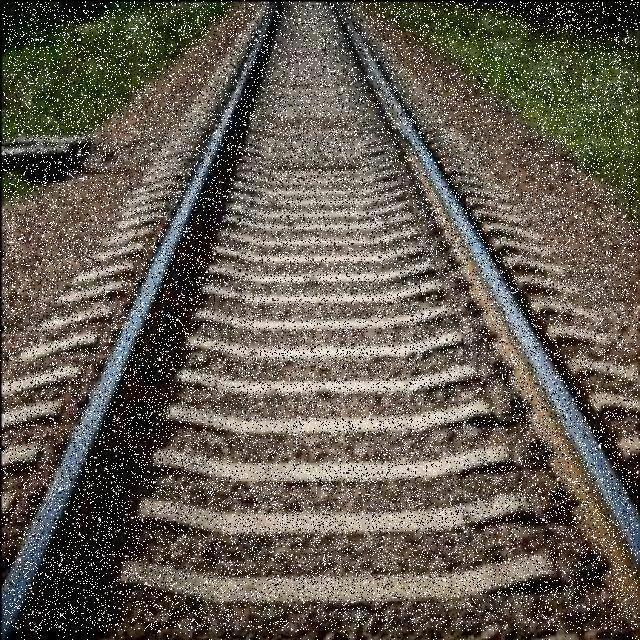rail: (4, 4, 639, 632)
